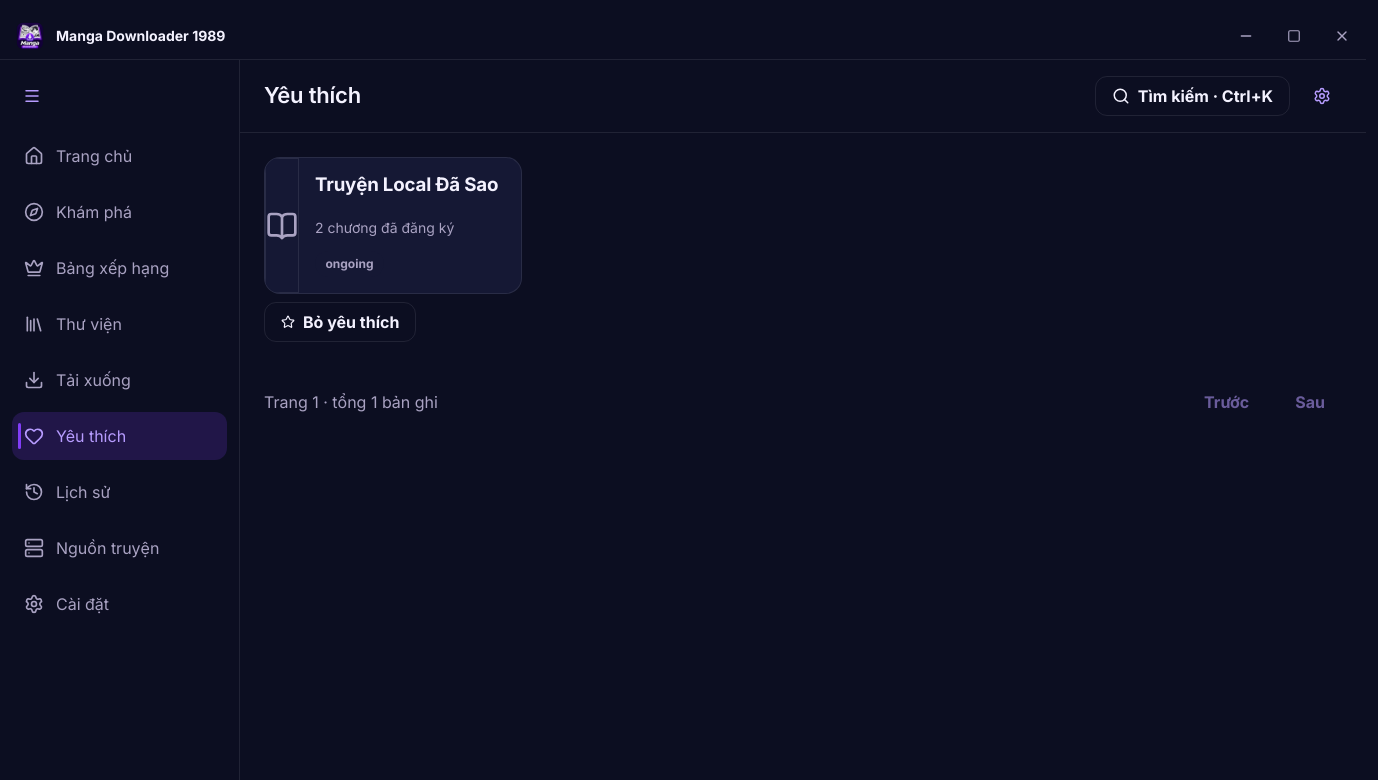
Scenario: Favorites local flow (visible behavior, round 3) › removes a persisted favorite through IPC and refetches to empty
Click the button "Bỏ yêu thích" at (340, 322), box top-left (264, 302), bottom-right (416, 342)
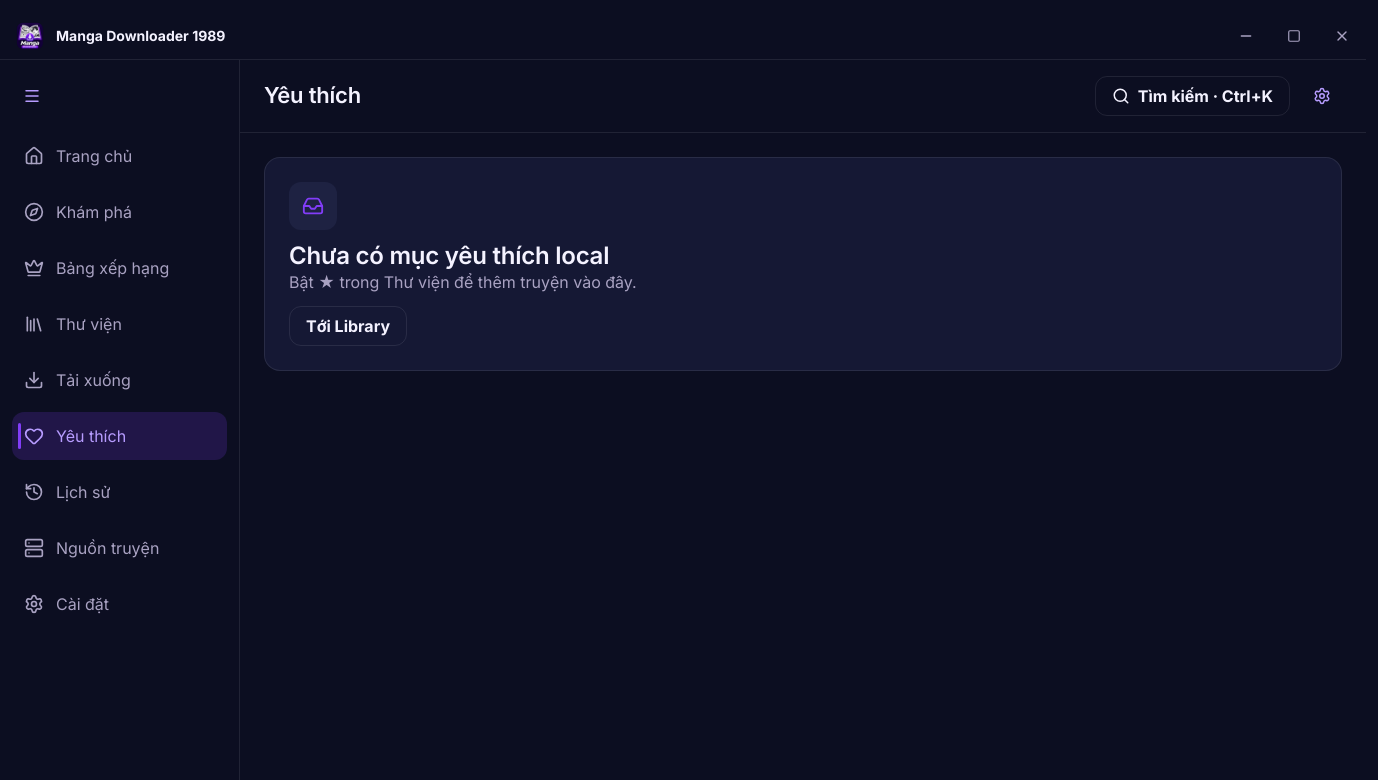
Now the heading "Chưa có mục yêu thích local" is shown, box top-left (289, 242), bottom-right (637, 270)
